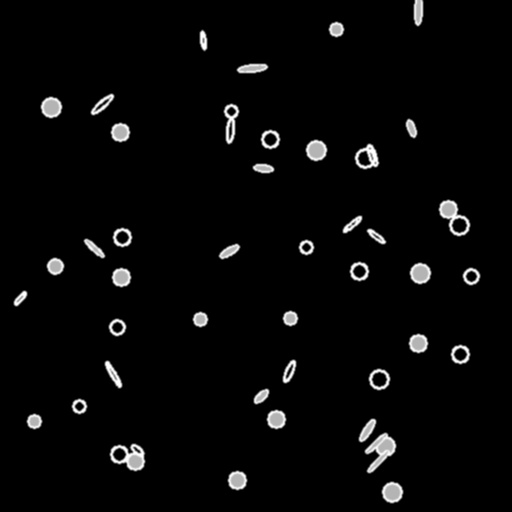pseudomonas: (366, 449, 390, 473), (90, 93, 114, 115), (364, 432, 388, 454), (104, 360, 122, 388), (83, 238, 105, 258), (358, 418, 376, 442), (366, 227, 386, 245), (342, 215, 362, 233), (282, 359, 296, 383), (365, 143, 379, 167), (219, 243, 239, 259), (252, 388, 270, 404), (238, 63, 266, 73), (129, 442, 145, 458), (225, 118, 235, 142), (13, 290, 27, 306), (405, 119, 417, 137), (199, 30, 207, 50), (415, 0, 421, 24), (254, 164, 272, 172)
synechocystis: (356, 149, 374, 167), (370, 370, 388, 388), (307, 141, 325, 159), (411, 264, 429, 282), (376, 437, 394, 455), (383, 483, 401, 501), (42, 98, 60, 116), (450, 216, 468, 234), (229, 472, 245, 488), (114, 229, 130, 245), (268, 411, 284, 427), (440, 201, 456, 217), (112, 124, 128, 140), (452, 346, 468, 362), (351, 263, 367, 279), (111, 446, 127, 462), (113, 269, 129, 285), (410, 335, 426, 351), (127, 453, 143, 469), (262, 131, 278, 147), (48, 259, 62, 273), (464, 269, 478, 283), (110, 320, 124, 334), (330, 23, 342, 35), (225, 105, 237, 117), (28, 415, 40, 427), (73, 400, 85, 412), (194, 313, 206, 325), (300, 241, 312, 253), (284, 312, 296, 324)
